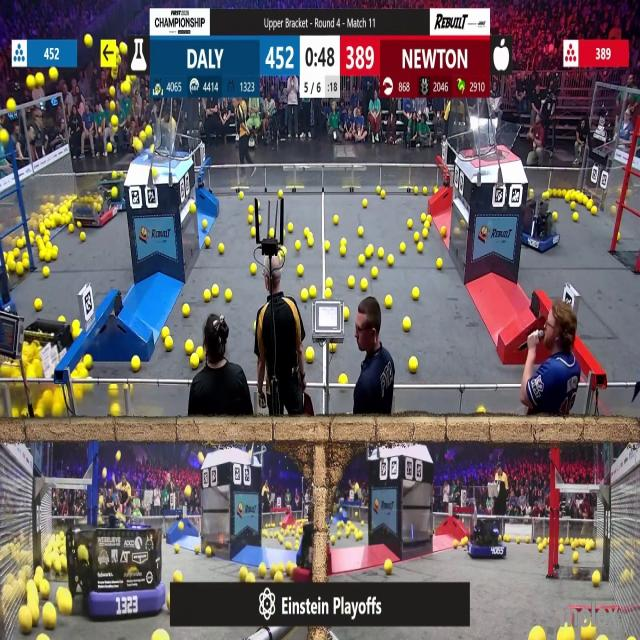ball_airborne: (0, 130, 9, 144), (36, 73, 44, 87), (28, 75, 36, 89), (49, 68, 57, 81), (134, 139, 142, 152), (7, 99, 15, 112), (121, 83, 129, 95), (85, 32, 92, 45), (119, 42, 126, 54), (111, 115, 118, 126), (109, 101, 116, 112), (184, 487, 191, 498), (109, 88, 116, 98), (146, 128, 152, 138), (151, 168, 157, 178), (100, 470, 106, 480), (115, 56, 121, 66), (140, 132, 147, 140), (149, 145, 155, 154), (131, 74, 137, 82), (118, 450, 122, 461), (110, 72, 116, 79), (108, 143, 112, 152), (100, 496, 104, 504), (112, 172, 116, 180)
ball_ground: (42, 606, 56, 630), (21, 613, 33, 635), (560, 628, 575, 640), (31, 610, 41, 628), (530, 628, 544, 640), (39, 582, 49, 598), (72, 321, 81, 338), (592, 571, 602, 586), (409, 356, 418, 372), (584, 627, 596, 639), (384, 560, 392, 575), (110, 405, 120, 417), (152, 631, 165, 640), (185, 341, 193, 355), (307, 348, 315, 362), (258, 563, 266, 577), (132, 356, 140, 370), (190, 354, 198, 368), (86, 354, 94, 368), (174, 570, 183, 582), (402, 318, 410, 331), (224, 288, 231, 302), (385, 295, 393, 307), (309, 286, 317, 298), (204, 289, 212, 301), (15, 266, 23, 278), (286, 562, 294, 574), (197, 347, 205, 359), (182, 305, 189, 318), (35, 299, 42, 312), (413, 287, 420, 300), (275, 571, 283, 582), (324, 288, 332, 299), (247, 571, 255, 582), (370, 268, 377, 280), (166, 339, 173, 351), (212, 285, 219, 297), (240, 568, 247, 580), (365, 246, 372, 258), (340, 375, 348, 385), (51, 247, 57, 260), (296, 266, 303, 277), (358, 254, 365, 265), (344, 309, 350, 321), (303, 289, 309, 301), (436, 260, 442, 272), (163, 327, 170, 337), (42, 268, 49, 278), (417, 243, 424, 253), (571, 212, 578, 222), (11, 410, 18, 420), (80, 366, 87, 376), (349, 277, 355, 288), (250, 265, 256, 276), (361, 279, 367, 290), (218, 243, 224, 254), (572, 552, 578, 563), (269, 230, 276, 239), (328, 344, 335, 353), (379, 248, 385, 258), (399, 243, 405, 253), (325, 278, 331, 288), (294, 241, 300, 251), (414, 233, 420, 243), (421, 214, 427, 224), (40, 251, 46, 261), (587, 200, 593, 210), (388, 254, 393, 265), (324, 241, 329, 252), (341, 247, 347, 256), (206, 546, 212, 555), (422, 231, 428, 240), (189, 205, 195, 214), (442, 226, 448, 235), (69, 223, 75, 232), (205, 238, 211, 247), (408, 219, 414, 228), (332, 215, 338, 224), (356, 534, 362, 543), (461, 536, 467, 545), (565, 194, 571, 203), (309, 238, 314, 248), (251, 228, 256, 238), (358, 226, 363, 236), (341, 239, 348, 246), (478, 408, 485, 415), (76, 221, 83, 228), (38, 634, 46, 640), (452, 539, 458, 547), (570, 202, 576, 210), (286, 540, 292, 548), (278, 190, 284, 198), (304, 230, 310, 238), (572, 568, 578, 576), (542, 190, 548, 198), (175, 543, 180, 552), (203, 219, 208, 228), (24, 261, 29, 270), (248, 207, 254, 214), (60, 316, 66, 323), (122, 384, 128, 391), (586, 543, 592, 550), (362, 200, 367, 208), (288, 222, 292, 232), (248, 215, 253, 223), (194, 544, 199, 552), (592, 207, 597, 215), (559, 544, 564, 552), (423, 186, 428, 194), (381, 190, 386, 198), (179, 522, 184, 530), (280, 249, 285, 257), (330, 536, 335, 544), (524, 536, 530, 542), (537, 543, 542, 550), (432, 186, 437, 193), (279, 535, 284, 542), (536, 536, 541, 543), (80, 234, 84, 242), (618, 234, 622, 242), (264, 531, 268, 539), (517, 537, 522, 543), (240, 191, 244, 198), (377, 186, 381, 193), (600, 636, 606, 640), (339, 522, 343, 528), (258, 216, 261, 223), (360, 521, 364, 526)
goal: (464, 121, 522, 160), (138, 128, 188, 160)
robot_blue: (84, 528, 168, 617), (521, 197, 561, 253), (469, 517, 508, 559)
robot_red: (75, 178, 119, 228)
